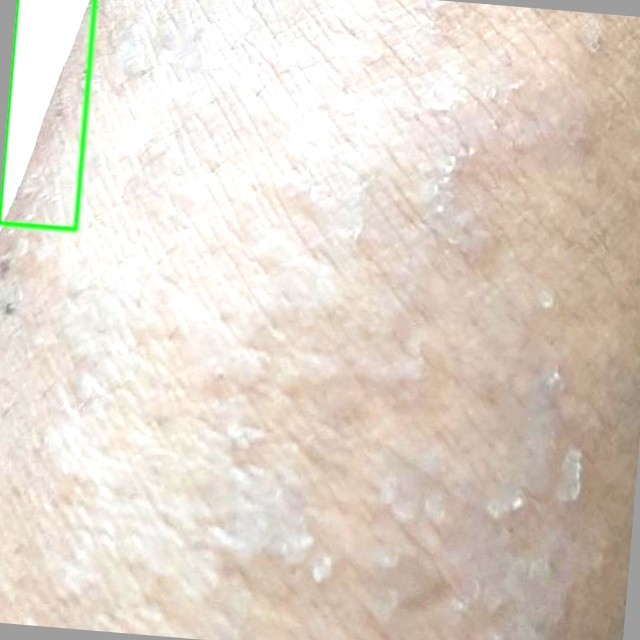Tinea Corporis: (0, 0, 94, 229)
